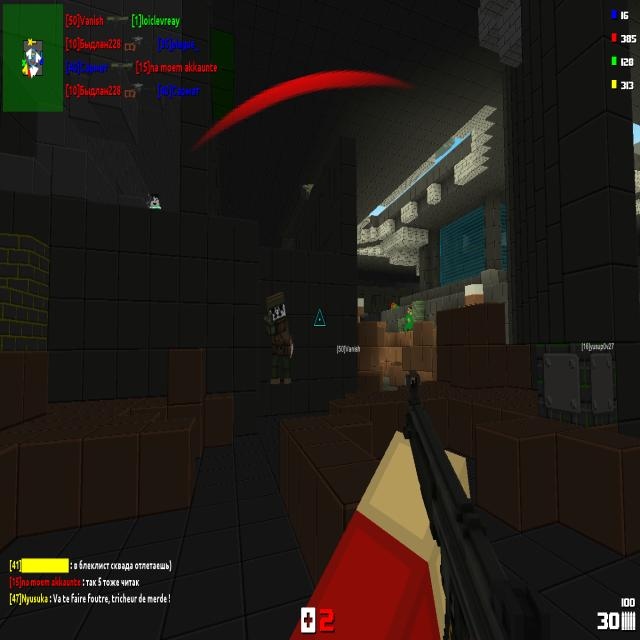enemy: (264, 291, 291, 386)
